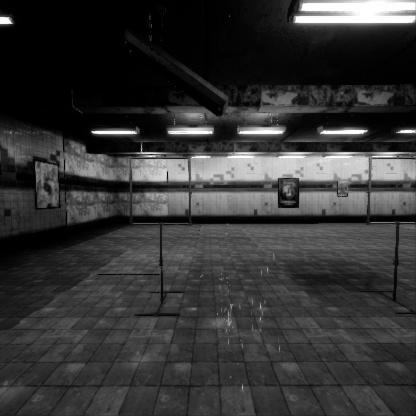gate: (129, 189, 197, 259), (367, 190, 416, 259)
